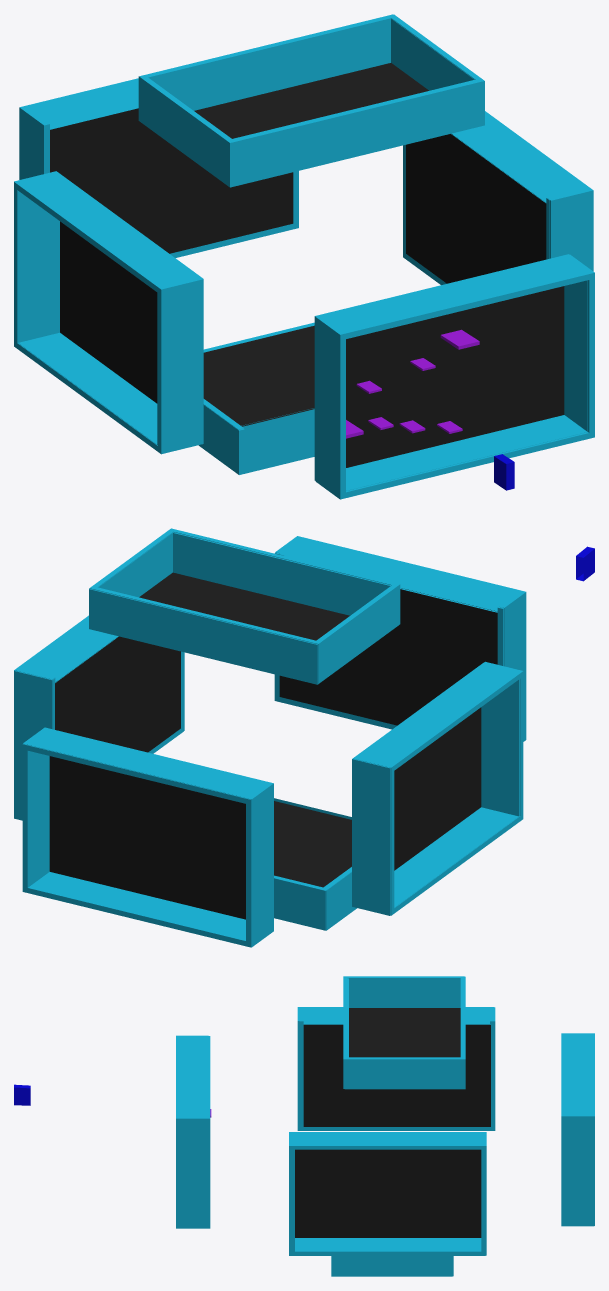
Rendered from CUBO SEPARADO.glb.
The picture shows the model from 3 angles, top to bottom: view 1: azimuth 30°, elevation 25°; view 2: azimuth 150°, elevation 25°; view 3: azimuth 270°, elevation 25°; orthographic projection. The views are drawn at different scales.
Visible parts, largest first — view 1: faces-convcololy, faces, platforms-col, wall-col; view 2: faces, faces-convcololy, wall-col; view 3: faces-convcololy, faces.
Part boxes in pixels (x1,y1,x2,y2): faces-convcololy: (14, 14, 594, 499); faces: (14, 14, 587, 490); platforms-col: (356, 358, 462, 433); wall-col: (494, 454, 514, 490); faces: (14, 532, 519, 947); faces-convcololy: (14, 528, 526, 947); wall-col: (576, 546, 594, 581); faces-convcololy: (176, 976, 594, 1276); faces: (208, 976, 594, 1276).
Size of the model in its own units: 183 by 133 by 323.
5 materials, 2 textured.
